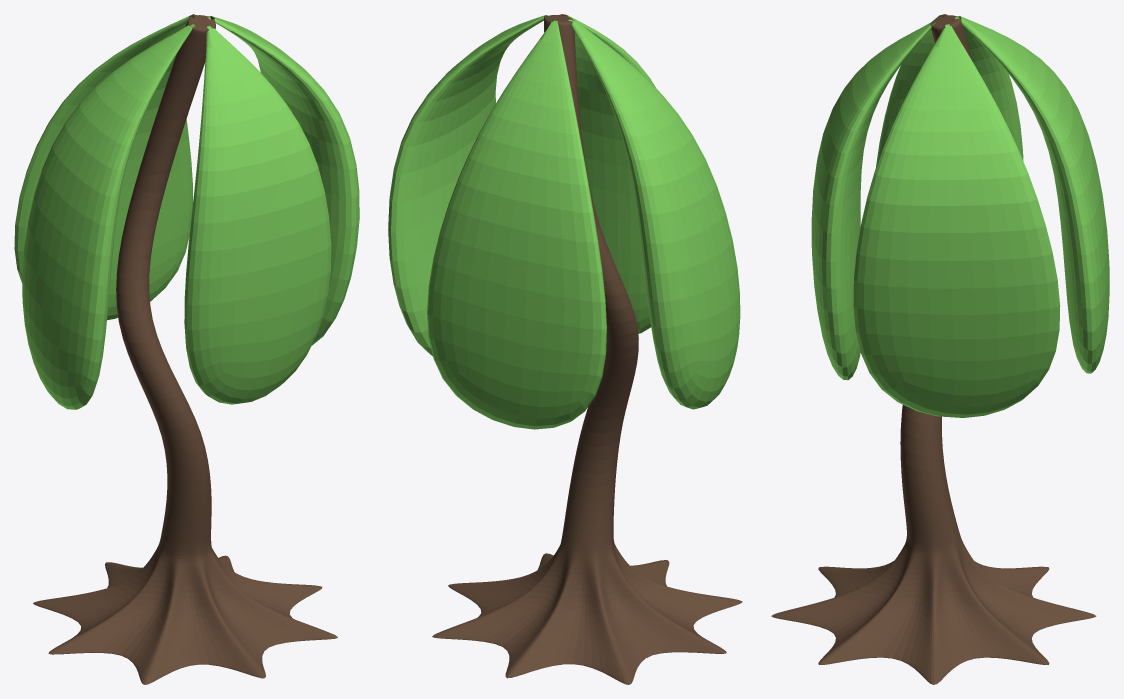
The model's file is Floppy_Tree_04.fbx.
3 renders of one model, left to right at view 1: azimuth 30°, elevation 25°; view 2: azimuth 150°, elevation 25°; view 3: azimuth 270°, elevation 25°, orthographic. The views are drawn at different scales.
Parts seen in each view (by area): view 1: Cylinder; view 2: Cylinder; view 3: Cylinder.
Boxes of the visible parts, x1,y1,x2,y2 form: Cylinder: (14,14,359,684); Cylinder: (388,14,742,684); Cylinder: (771,14,1109,684).
Size of the model in its own units: 324 by 639 by 322.
